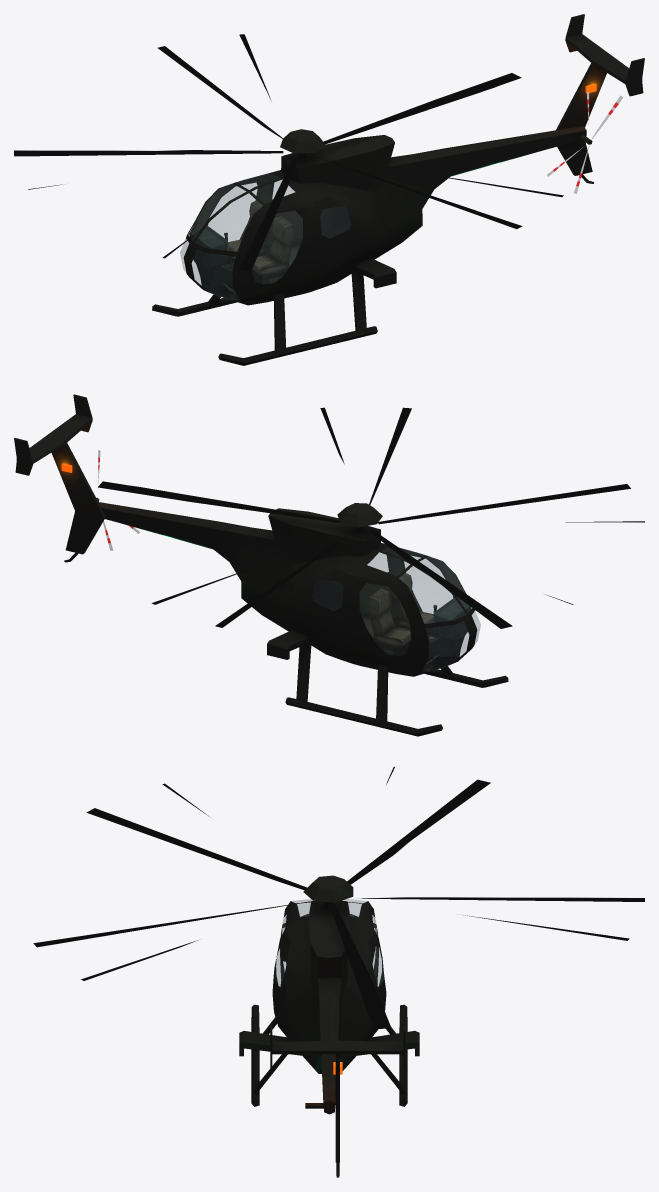
3 views of the same model, one above another, from view 1: azimuth 30°, elevation 25°; view 2: azimuth 150°, elevation 25°; view 3: azimuth 270°, elevation 25° (orthographic). The views are drawn at different scales.
Visible parts, largest first — view 1: HELI, ROTOR2; view 2: HELI, ROTOR2; view 3: HELI, ROTOR2.
Part boxes in pixels (left/top/right/bottom): HELI: left=152, top=14, right=644, bottom=365; ROTOR2: left=14, top=34, right=623, bottom=270; HELI: left=14, top=394, right=508, bottom=736; ROTOR2: left=83, top=407, right=644, bottom=628; HELI: left=239, top=875, right=419, bottom=1177; ROTOR2: left=33, top=767, right=644, bottom=1070.
Bounding box in the file's own units: 9.19 × 3.1 × 7.9.
Materials: 4 (2 with a texture image).
